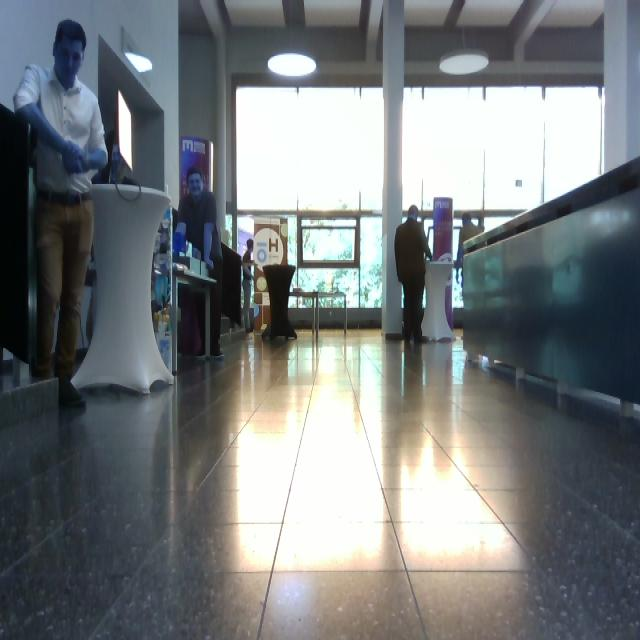light bulb: (439, 49, 490, 76), (267, 52, 317, 77), (125, 52, 153, 73)
person: (13, 18, 109, 408), (177, 166, 225, 360), (395, 205, 433, 345), (455, 212, 486, 288), (242, 238, 255, 333)
pillar: (70, 183, 175, 395), (381, 1, 405, 338)
staircase: (461, 155, 639, 423)
tiled floor: (2, 325, 639, 638)
window: (235, 82, 384, 313)
